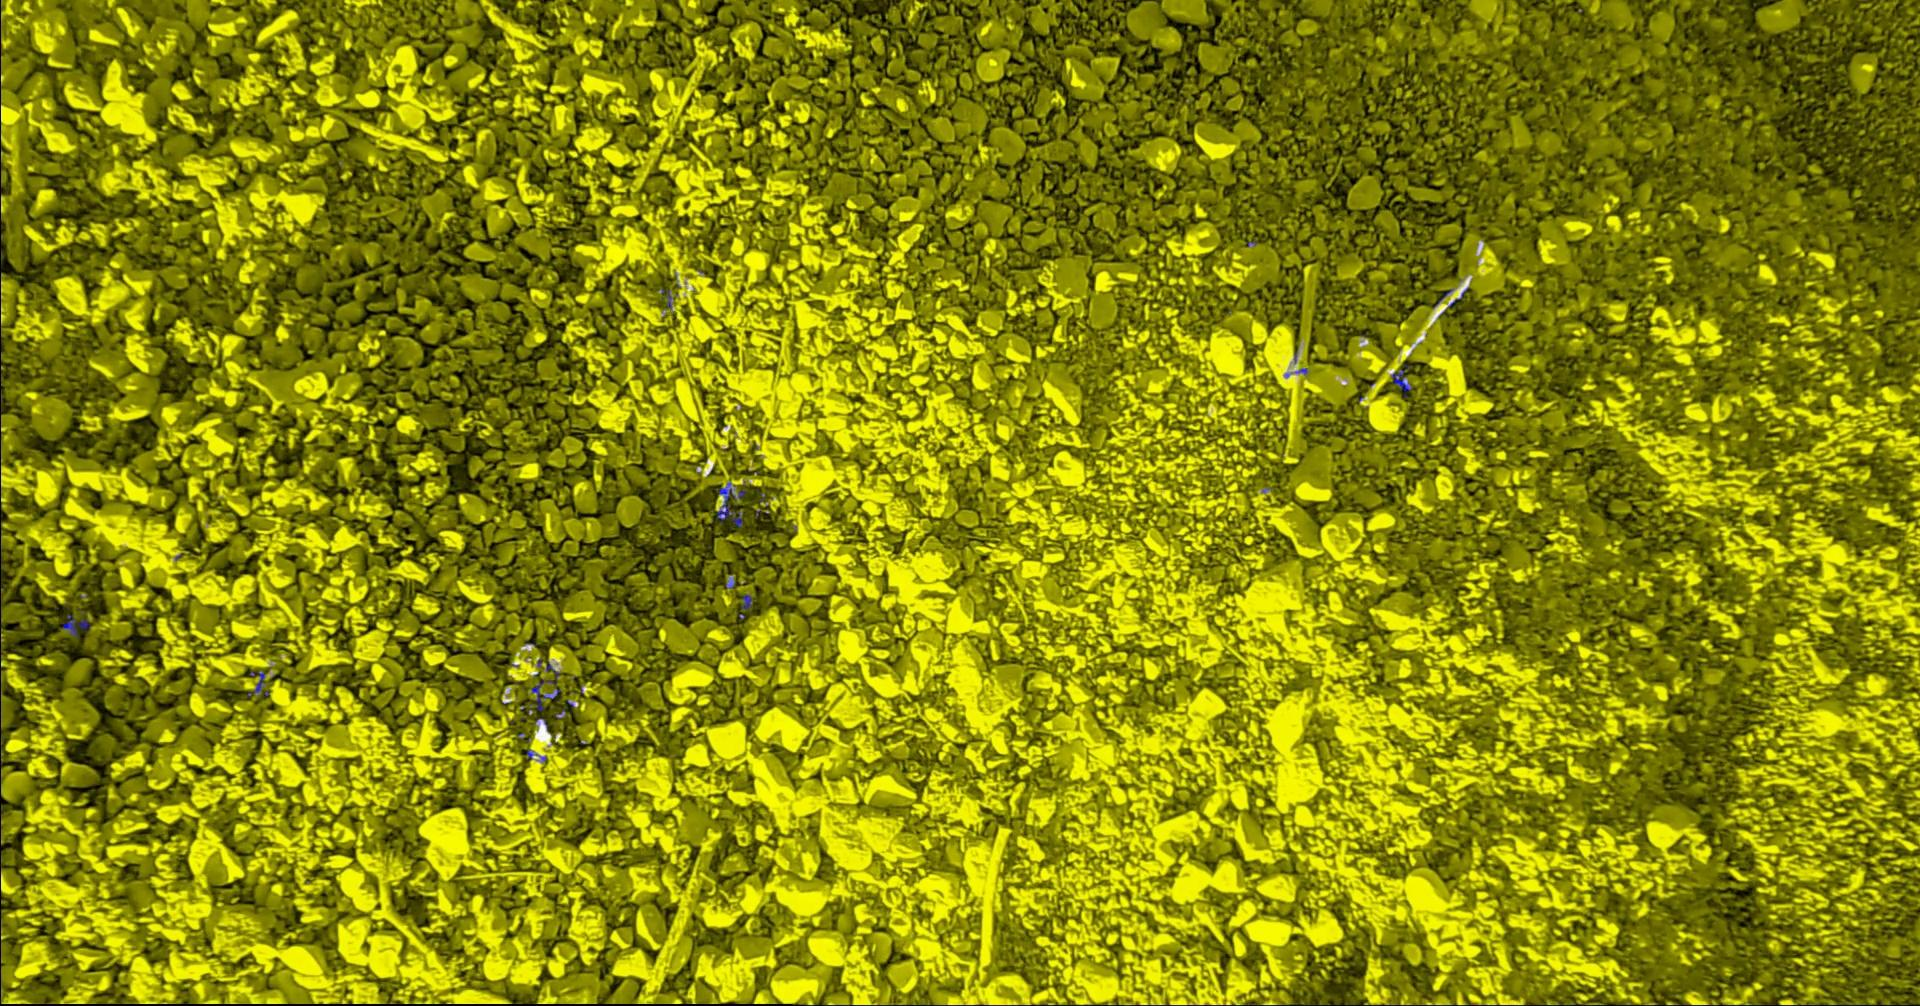ant: (528, 662, 561, 710), (715, 481, 745, 527), (1390, 365, 1411, 398), (61, 614, 89, 636), (249, 671, 264, 695), (662, 288, 673, 307), (742, 593, 752, 608)
